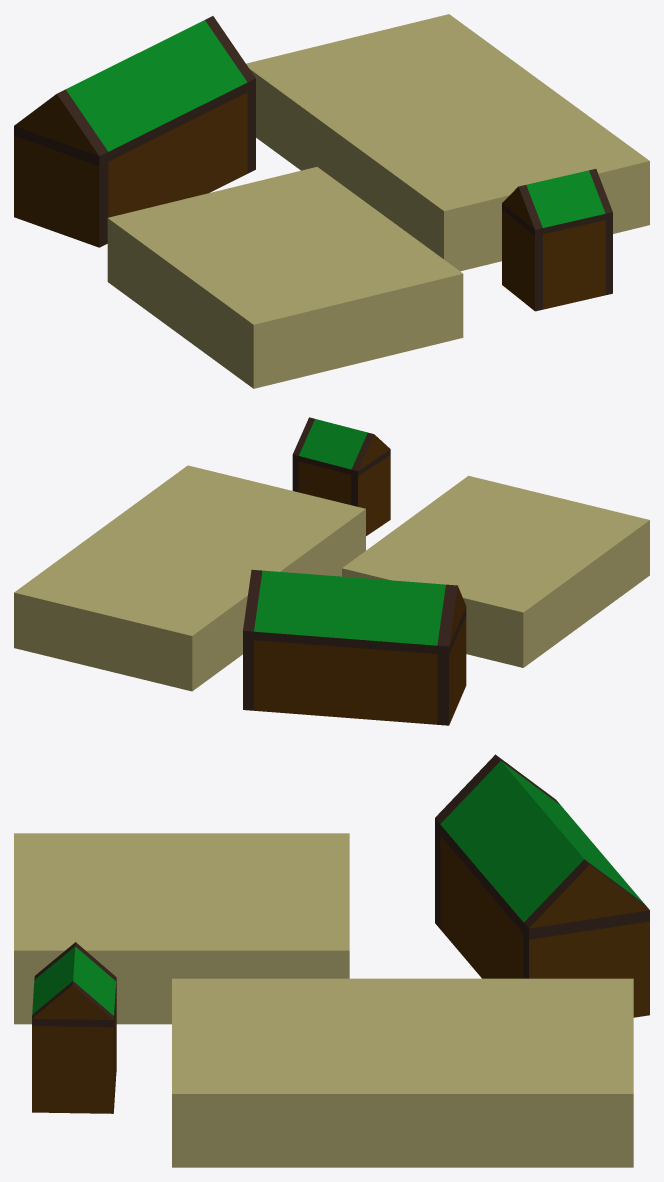
Rendered from SM_TileFarm.fbx.
3 renders of one model, top to bottom at view 1: azimuth 30°, elevation 25°; view 2: azimuth 150°, elevation 25°; view 3: azimuth 270°, elevation 25°, orthographic. The views are drawn at different scales.
Parts seen in each view (by area): view 1: TileFarmTop, TileFarm; view 2: TileFarmTop, TileFarm; view 3: TileFarmTop, TileFarm.
Part boxes in pixels (x1=…): TileFarmTop: x1=107, y1=14, x2=649, y2=388; TileFarm: x1=14, y1=16, x2=612, y2=311; TileFarmTop: x1=14, y1=465, x2=649, y2=691; TileFarm: x1=243, y1=417, x2=466, y2=725; TileFarmTop: x1=14, y1=833, x2=633, y2=1167; TileFarm: x1=32, y1=754, x2=649, y2=1113.
Size of the model in its own units: 408 by 115 by 417.
